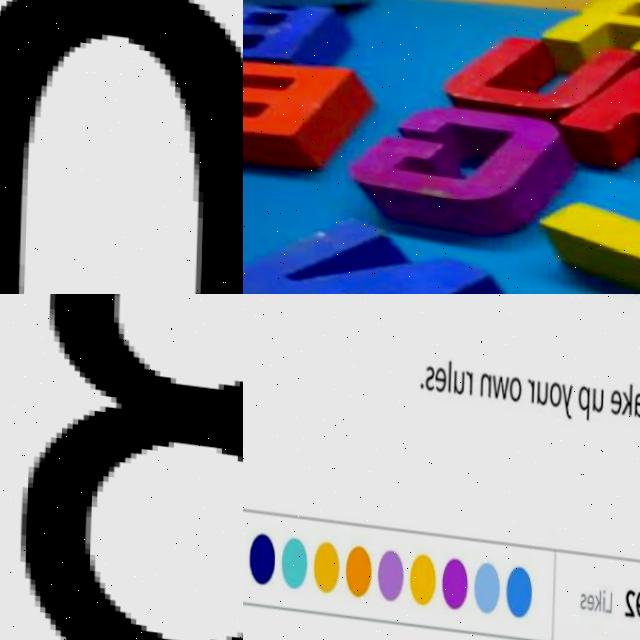0: (0, 0, 243, 294)
5: (635, 575, 640, 608)
8: (12, 294, 243, 640)
A: (542, 41, 640, 175), (634, 379, 640, 408)
B: (243, 0, 356, 73)
E: (243, 43, 370, 174), (610, 377, 622, 404), (435, 358, 446, 385), (586, 581, 595, 601)
G: (359, 92, 594, 235)
I: (603, 577, 606, 603)
K: (621, 371, 633, 405), (595, 577, 602, 602)
L: (549, 133, 640, 294), (605, 578, 613, 603), (448, 352, 452, 386)
N: (243, 208, 522, 294), (479, 363, 491, 390)
O: (509, 366, 522, 393), (549, 371, 561, 398)
P: (577, 375, 590, 409)
R: (543, 0, 640, 60), (464, 362, 472, 387), (526, 368, 534, 393)
S: (425, 358, 435, 385), (580, 580, 586, 600)
U: (446, 19, 616, 125), (537, 370, 547, 397), (593, 376, 603, 401), (453, 361, 463, 386)
W: (492, 366, 509, 391)
Y: (560, 374, 573, 410)
